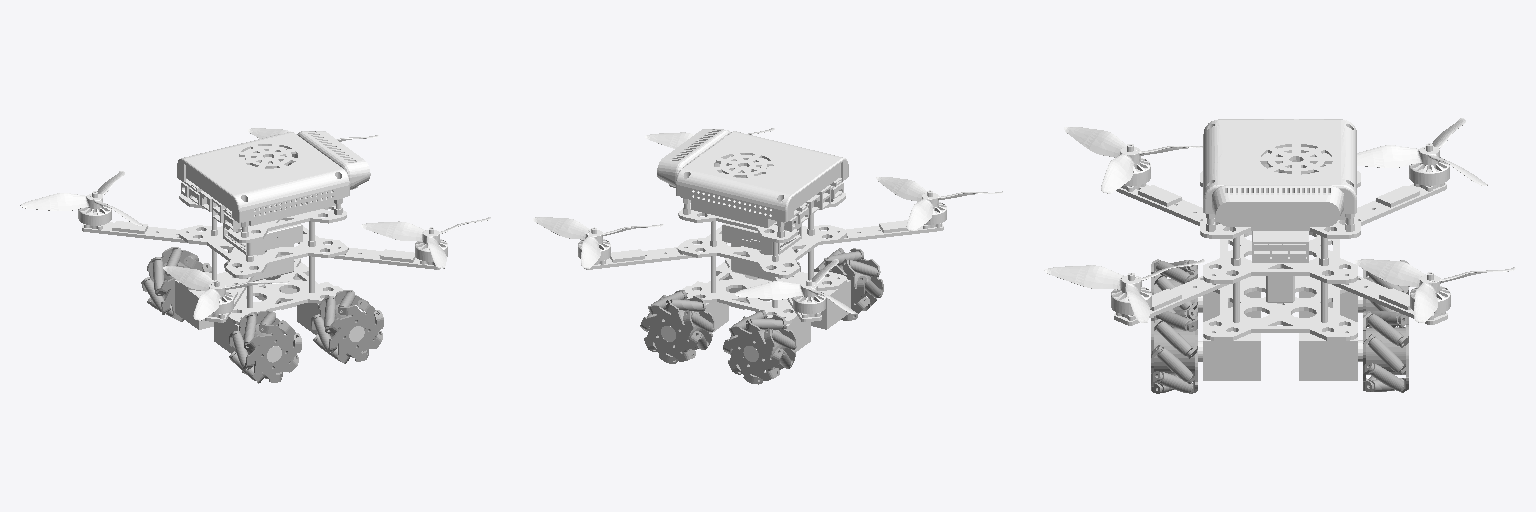
robot.urdf — uav_v4:
<?xml version="1.0" encoding="utf-8"?>
<!-- This URDF was automatically created by SolidWorks to URDF Exporter! Originally created by Stephen Brawner (brawner@gmail.com) 
     Commit Version: 1.6.0-4-g7f85cfe  Build Version: 1.6.7995.38578
     For more information, please see http://wiki.ros.org/sw_urdf_exporter -->
<robot
  name="uav_v4">
  <link
    name="base_link">
    <inertial>
      <origin
        xyz="0.0027205 3.1868E-05 0.016326"
        rpy="0 0 0" />
      <mass
        value="2.2782" />
      <inertia
        ixx="0.0010088"
        ixy="-1.2793E-06"
        ixz="5.9514E-06"
        iyy="0.00068372"
        iyz="7.939E-06"
        izz="0.0014123" />
    </inertial>
    <visual>
      <origin
        xyz="0 0 0"
        rpy="0 0 0" />
      <geometry>
        <mesh
          filename="package://uav_v4/meshes/base_link.STL" />
      </geometry>
      <material
        name="">
        <color
          rgba="1 1 1 1" />
      </material>
    </visual>
    <collision>
      <origin
        xyz="0 0 0"
        rpy="0 0 0" />
      <geometry>
        <mesh
          filename="package://uav_v4/meshes/base_link.STL" />
      </geometry>
    </collision>
  </link>
  <link
    name="wheel1_link">
    <inertial>
      <origin
        xyz="-6.9389E-16 0.015781 -6.7654E-17"
        rpy="0 0 0" />
      <mass
        value="0.037807" />
      <inertia
        ixx="4.513E-06"
        ixy="-1.3835E-21"
        ixz="-1.7984E-20"
        iyy="5.9992E-06"
        iyz="-1.2662E-21"
        izz="4.513E-06" />
    </inertial>
    <visual>
      <origin
        xyz="0 0 0"
        rpy="0 0 0" />
      <geometry>
        <mesh
          filename="package://uav_v4/meshes/wheel1_link.STL" />
      </geometry>
      <material
        name="">
        <color
          rgba="0.75294 0.75294 0.75294 1" />
      </material>
    </visual>
    <collision>
      <origin
        xyz="0 0 0"
        rpy="0 0 0" />
      <geometry>
        <mesh
          filename="package://uav_v4/meshes/wheel1_link.STL" />
      </geometry>
    </collision>
  </link>
  <joint
    name="wheel1_joint"
    type="continuous">
    <origin
      xyz="0.04 -0.088 -0.015"
      rpy="0 0 0" />
    <parent
      link="base_link" />
    <child
      link="wheel1_link" />
    <axis
      xyz="0 1 0" />
  </joint>
  <link
    name="wheel2_link">
    <inertial>
      <origin
        xyz="0 0.015781 -3.4521E-16"
        rpy="0 0 0" />
      <mass
        value="0.037807" />
      <inertia
        ixx="4.513E-06"
        ixy="-1.3736E-21"
        ixz="-1.8352E-20"
        iyy="5.9992E-06"
        iyz="-1.5042E-21"
        izz="4.513E-06" />
    </inertial>
    <visual>
      <origin
        xyz="0 0 0"
        rpy="0 0 0" />
      <geometry>
        <mesh
          filename="package://uav_v4/meshes/wheel2_link.STL" />
      </geometry>
      <material
        name="">
        <color
          rgba="0.75294 0.75294 0.75294 1" />
      </material>
    </visual>
    <collision>
      <origin
        xyz="0 0 0"
        rpy="0 0 0" />
      <geometry>
        <mesh
          filename="package://uav_v4/meshes/wheel2_link.STL" />
      </geometry>
    </collision>
  </link>
  <joint
    name="wheel2_joint"
    type="continuous">
    <origin
      xyz="-0.04 -0.088 -0.015"
      rpy="0 0 0" />
    <parent
      link="base_link" />
    <child
      link="wheel2_link" />
    <axis
      xyz="0 1 0" />
  </joint>
  <link
    name="wheel3_link">
    <inertial>
      <origin
        xyz="-4.996E-16 -0.015781 2.8103E-16"
        rpy="0 0 0" />
      <mass
        value="0.037807" />
      <inertia
        ixx="4.513E-06"
        ixy="1.4366E-21"
        ixz="1.0591E-20"
        iyy="5.9992E-06"
        iyz="-7.4952E-22"
        izz="4.513E-06" />
    </inertial>
    <visual>
      <origin
        xyz="0 0 0"
        rpy="0 0 0" />
      <geometry>
        <mesh
          filename="package://uav_v4/meshes/wheel3_link.STL" />
      </geometry>
      <material
        name="">
        <color
          rgba="0.75294 0.75294 0.75294 1" />
      </material>
    </visual>
    <collision>
      <origin
        xyz="0 0 0"
        rpy="0 0 0" />
      <geometry>
        <mesh
          filename="package://uav_v4/meshes/wheel3_link.STL" />
      </geometry>
    </collision>
  </link>
  <joint
    name="wheel3_joint"
    type="continuous">
    <origin
      xyz="0.0400000000000004 0.088 -0.0150000000000005"
      rpy="0 0 0" />
    <parent
      link="base_link" />
    <child
      link="wheel3_link" />
    <axis
      xyz="0 -1 0" />
  </joint>
  <link
    name="wheel4_link">
    <inertial>
      <origin
        xyz="-8.9512E-16 -0.015719 1.7521E-16"
        rpy="0 0 0" />
      <mass
        value="0.037807" />
      <inertia
        ixx="4.513E-06"
        ixy="6.0908E-23"
        ixz="1.5908E-20"
        iyy="5.9992E-06"
        iyz="-2.0557E-21"
        izz="4.513E-06" />
    </inertial>
    <visual>
      <origin
        xyz="0 0 0"
        rpy="0 0 0" />
      <geometry>
        <mesh
          filename="package://uav_v4/meshes/wheel4_link.STL" />
      </geometry>
      <material
        name="">
        <color
          rgba="0.75294 0.75294 0.75294 1" />
      </material>
    </visual>
    <collision>
      <origin
        xyz="0 0 0"
        rpy="0 0 0" />
      <geometry>
        <mesh
          filename="package://uav_v4/meshes/wheel4_link.STL" />
      </geometry>
    </collision>
  </link>
  <joint
    name="wheel4_joint"
    type="continuous">
    <origin
      xyz="-0.0399999999999994 0.088 -0.0150000000000003"
      rpy="0 0 0" />
    <parent
      link="base_link" />
    <child
      link="wheel4_link" />
    <axis
      xyz="0 1 0" />
  </joint>
  <link
    name="arm1_link">
    <inertial>
      <origin
        xyz="0.029359 -0.029033 0.001856"
        rpy="0 0 0" />
      <mass
        value="0.010108" />
      <inertia
        ixx="3.6495E-06"
        ixy="3.4138E-06"
        ixz="-5.9984E-21"
        iyy="3.7257E-06"
        iyz="6.5036E-21"
        izz="7.3601E-06" />
    </inertial>
    <visual>
      <origin
        xyz="0 0 0"
        rpy="0 0 0" />
      <geometry>
        <mesh
          filename="package://uav_v4/meshes/arm1_link.STL" />
      </geometry>
      <material
        name="">
        <color
          rgba="1 1 1 1" />
      </material>
    </visual>
    <collision>
      <origin
        xyz="0 0 0"
        rpy="0 0 0" />
      <geometry>
        <mesh
          filename="package://uav_v4/meshes/arm1_link.STL" />
      </geometry>
    </collision>
  </link>
  <joint
    name="arm1_joint"
    type="revolute">
    <origin
      xyz="0.0475 -0.0455 0.04"
      rpy="0 0 0" />
    <parent
      link="base_link" />
    <child
      link="arm1_link" />
    <axis
      xyz="0 0 1" />
    <limit
      lower="-3.14"
      upper="3.14"
      effort="1"
      velocity="1" />
  </joint>
  <link
    name="wing1_link">
    <inertial>
      <origin
        xyz="-0.00012069 6.7575E-05 -0.015469"
        rpy="0 0 0" />
      <mass
        value="0.14356" />
      <inertia
        ixx="1.0711E-05"
        ixy="3.8436E-10"
        ixz="-7.0473E-12"
        iyy="1.0711E-05"
        iyz="7.1694E-11"
        izz="1.5206E-05" />
    </inertial>
    <visual>
      <origin
        xyz="0 0 0"
        rpy="0 0 0" />
      <geometry>
        <mesh
          filename="package://uav_v4/meshes/wing1_link.STL" />
      </geometry>
      <material
        name="">
        <color
          rgba="1 1 1 0.85" />
      </material>
    </visual>
    <collision>
      <origin
        xyz="0 0 0"
        rpy="0 0 0" />
      <geometry>
        <mesh
          filename="package://uav_v4/meshes/wing1_link.STL" />
      </geometry>
    </collision>
  </link>
  <joint
    name="wing1_joint"
    type="continuous">
    <origin
      xyz="0.057004 -0.05632 0.0293"
      rpy="0 0 0" />
    <parent
      link="arm1_link" />
    <child
      link="wing1_link" />
    <axis
      xyz="0 0 -1" />
  </joint>
  <link
    name="arm2_link">
    <inertial>
      <origin
        xyz="-0.0292962581830913 0.0289714060323844 0.00185602485905342"
        rpy="0 0 0" />
      <mass
        value="0.0101076088045098" />
      <inertia
        ixx="3.64954032673343E-06"
        ixy="3.41381876615257E-06"
        ixz="-1.77688991786571E-21"
        iyy="3.72567317704808E-06"
        iyz="2.36511102283099E-21"
        izz="7.36005209057475E-06" />
    </inertial>
    <visual>
      <origin
        xyz="0 0 0"
        rpy="0 0 0" />
      <geometry>
        <mesh
          filename="package://uav_v4/meshes/arm2_link.STL" />
      </geometry>
      <material
        name="">
        <color
          rgba="1 1 1 1" />
      </material>
    </visual>
    <collision>
      <origin
        xyz="0 0 0"
        rpy="0 0 0" />
      <geometry>
        <mesh
          filename="package://uav_v4/meshes/arm2_link.STL" />
      </geometry>
    </collision>
  </link>
  <joint
    name="arm2_joint"
    type="revolute">
    <origin
      xyz="-0.0475 0.0455 0.04"
      rpy="0 0 0" />
    <parent
      link="base_link" />
    <child
      link="arm2_link" />
    <axis
      xyz="0 0 1" />
    <limit
      lower="-3.14"
      upper="3.14"
      effort="1"
      velocity="1" />
  </joint>
  <link
    name="wing2_link">
    <inertial>
      <origin
        xyz="-0.00013824 -3.4396E-06 -0.015469"
        rpy="0 0 0" />
      <mass
        value="0.14356" />
      <inertia
        ixx="1.0711E-05"
        ixy="-2.2212E-10"
        ixz="-2.8595E-11"
        iyy="1.0711E-05"
        iyz="-9.5706E-11"
        izz="1.5206E-05" />
    </inertial>
    <visual>
      <origin
        xyz="0 0 0"
        rpy="0 0 0" />
      <geometry>
        <mesh
          filename="package://uav_v4/meshes/wing2_link.STL" />
      </geometry>
      <material
        name="">
        <color
          rgba="1 1 1 0.85" />
      </material>
    </visual>
    <collision>
      <origin
        xyz="0 0 0"
        rpy="0 0 0" />
      <geometry>
        <mesh
          filename="package://uav_v4/meshes/wing2_link.STL" />
      </geometry>
    </collision>
  </link>
  <joint
    name="wing2_joint"
    type="continuous">
    <origin
      xyz="-0.056745 0.056256 0.0293"
      rpy="0 0 0" />
    <parent
      link="arm2_link" />
    <child
      link="wing2_link" />
    <axis
      xyz="0 0 -1" />
  </joint>
  <link
    name="arm3_link">
    <inertial>
      <origin
        xyz="0.029033 0.029359 0.001856"
        rpy="0 0 0" />
      <mass
        value="0.010108" />
      <inertia
        ixx="3.7257E-06"
        ixy="-3.4138E-06"
        ixz="8.2237E-21"
        iyy="3.6495E-06"
        iyz="8.7612E-21"
        izz="7.3601E-06" />
    </inertial>
    <visual>
      <origin
        xyz="0 0 0"
        rpy="0 0 0" />
      <geometry>
        <mesh
          filename="package://uav_v4/meshes/arm3_link.STL" />
      </geometry>
      <material
        name="">
        <color
          rgba="1 1 1 1" />
      </material>
    </visual>
    <collision>
      <origin
        xyz="0 0 0"
        rpy="0 0 0" />
      <geometry>
        <mesh
          filename="package://uav_v4/meshes/arm3_link.STL" />
      </geometry>
    </collision>
  </link>
  <joint
    name="arm3_joint"
    type="revolute">
    <origin
      xyz="0.0475 0.0455 0.04"
      rpy="0 0 0" />
    <parent
      link="base_link" />
    <child
      link="arm3_link" />
    <axis
      xyz="0 0 1" />
    <limit
      lower="-3.14"
      upper="3.14"
      effort="1"
      velocity="1" />
  </joint>
  <link
    name="wing3_link">
    <inertial>
      <origin
        xyz="0.00013284 3.9015E-05 -0.015469"
        rpy="0 0 0" />
      <mass
        value="0.14356" />
      <inertia
        ixx="1.0711E-05"
        ixy="9.743E-11"
        ixz="8.2675E-13"
        iyy="1.071E-05"
        iyz="-1.3698E-10"
        izz="1.5205E-05" />
    </inertial>
    <visual>
      <origin
        xyz="0 0 0"
        rpy="0 0 0" />
      <geometry>
        <mesh
          filename="package://uav_v4/meshes/wing3_link.STL" />
      </geometry>
      <material
        name="">
        <color
          rgba="1 1 1 0.85" />
      </material>
    </visual>
    <collision>
      <origin
        xyz="0 0 0"
        rpy="0 0 0" />
      <geometry>
        <mesh
          filename="package://uav_v4/meshes/wing3_link.STL" />
      </geometry>
    </collision>
  </link>
  <joint
    name="wing3_joint"
    type="continuous">
    <origin
      xyz="0.0561194409149738 0.0568442905237558 0.0293000000000069"
      rpy="0 0 0" />
    <parent
      link="arm3_link" />
    <child
      link="wing3_link" />
    <axis
      xyz="0 0 -1" />
  </joint>
  <link
    name="arm4_link">
    <inertial>
      <origin
        xyz="-0.029033 -0.029359 0.001856"
        rpy="0 0 0" />
      <mass
        value="0.010108" />
      <inertia
        ixx="3.7257E-06"
        ixy="-3.4138E-06"
        ixz="3.5619E-21"
        iyy="3.6495E-06"
        iyz="3.8509E-21"
        izz="7.3601E-06" />
    </inertial>
    <visual>
      <origin
        xyz="0 0 0"
        rpy="0 0 0" />
      <geometry>
        <mesh
          filename="package://uav_v4/meshes/arm4_link.STL" />
      </geometry>
      <material
        name="">
        <color
          rgba="1 1 1 1" />
      </material>
    </visual>
    <collision>
      <origin
        xyz="0 0 0"
        rpy="0 0 0" />
      <geometry>
        <mesh
          filename="package://uav_v4/meshes/arm4_link.STL" />
      </geometry>
    </collision>
  </link>
  <joint
    name="arm4_joint"
    type="revolute">
    <origin
      xyz="-0.0475 -0.0455 0.04"
      rpy="0 0 0" />
    <parent
      link="base_link" />
    <child
      link="arm4_link" />
    <axis
      xyz="0 0 1" />
    <limit
      lower="-3.14"
      upper="3.14"
      effort="1"
      velocity="1" />
  </joint>
  <link
    name="wing4_link">
    <inertial>
      <origin
        xyz="-8.3369E-05 0.00011068 -0.015469"
        rpy="0 0 0" />
      <mass
        value="0.14356" />
      <inertia
        ixx="1.0711E-05"
        ixy="-2.2056E-10"
        ixz="-5.3232E-12"
        iyy="1.0711E-05"
        iyz="-1.1229E-10"
        izz="1.5206E-05" />
    </inertial>
    <visual>
      <origin
        xyz="0 0 0"
        rpy="0 0 0" />
      <geometry>
        <mesh
          filename="package://uav_v4/meshes/wing4_link.STL" />
      </geometry>
      <material
        name="">
        <color
          rgba="1 1 1 0.85" />
      </material>
    </visual>
    <collision>
      <origin
        xyz="0 0 0"
        rpy="0 0 0" />
      <geometry>
        <mesh
          filename="package://uav_v4/meshes/wing4_link.STL" />
      </geometry>
    </collision>
  </link>
  <joint
    name="wing4_joint"
    type="continuous">
    <origin
      xyz="-0.056169 -0.056994 0.0293"
      rpy="0 0 0" />
    <parent
      link="arm4_link" />
    <child
      link="wing4_link" />
    <axis
      xyz="0 0 -1" />
  </joint>
  <gazebo>
    <plugin name="mecanum_phase1_planar_move" filename="libgazebo_ros_planar_move.so">
      <commandTopic>/mecanum/cmd_vel</commandTopic>
      <odometryTopic>/odom</odometryTopic>
      <odometryFrame>odom</odometryFrame>
      <odometryRate>50.0</odometryRate>
      <robotBaseFrame>base_link</robotBaseFrame>
    </plugin>
  </gazebo>

</robot>

--- Render facts (derived) ---
3 views of the same robot in one strip: view 1: azimuth 30°, elevation 25°; view 2: azimuth 150°, elevation 25°; view 3: azimuth 270°, elevation 25° (orthographic).
Model uav_v4 with 13 links and 12 joints (4 revolute, 8 continuous), rooted at base_link, posed every joint at zero.
Links seen in each view (by area): view 1: base_link, wheel2_link, wheel1_link, wing2_link, wheel4_link, wing4_link, wing1_link, arm2_link, arm1_link; view 2: base_link, wheel3_link, wheel4_link, wheel2_link, wing2_link, wing4_link, wing3_link, arm3_link, arm4_link, wing1_link; view 3: base_link, wheel1_link, wheel3_link, wing2_link, wing4_link, wing1_link, wing3_link, arm2_link, arm4_link, arm3_link, arm1_link, wheel2_link (+1 smaller).
Boxes of the visible links, <box> form: base_link: <box>175,131,370,362</box>; wheel2_link: <box>229,310,301,383</box>; wheel1_link: <box>311,290,383,363</box>; wing2_link: <box>20,171,142,229</box>; wheel4_link: <box>141,247,211,321</box>; wing4_link: <box>163,266,289,320</box>; wing1_link: <box>361,217,490,268</box>; arm2_link: <box>82,221,199,243</box>; arm1_link: <box>326,247,440,269</box>; base_link: <box>657,129,850,361</box>; wheel3_link: <box>640,290,714,363</box>; wheel4_link: <box>723,310,797,384</box>; wheel2_link: <box>814,248,883,320</box>; wing2_link: <box>735,259,857,317</box>; wing4_link: <box>876,177,1002,230</box>; wing3_link: <box>533,217,663,268</box>; arm3_link: <box>584,247,698,269</box>; arm4_link: <box>826,220,943,243</box>; wing1_link: <box>645,128,774,148</box>; base_link: <box>1198,119,1362,380</box>; wheel1_link: <box>1151,309,1197,393</box>; wheel3_link: <box>1363,311,1408,392</box>; wing2_link: <box>1357,118,1487,191</box>; wing4_link: <box>1064,127,1202,193</box>; wing1_link: <box>1044,259,1204,322</box>; wing3_link: <box>1354,259,1515,322</box>; arm2_link: <box>1356,183,1446,225</box>; arm4_link: <box>1116,184,1204,225</box>; arm3_link: <box>1332,276,1447,324</box>; arm1_link: <box>1114,276,1228,325</box>; wheel2_link: <box>1151,259,1197,327</box>.
Bounding box of the posed robot: 0.3312 × 0.3217 × 0.1627 m (x, y, z).
Meshes: 13 distinct files referenced, 13 mesh visuals loaded (13 binary STL).
